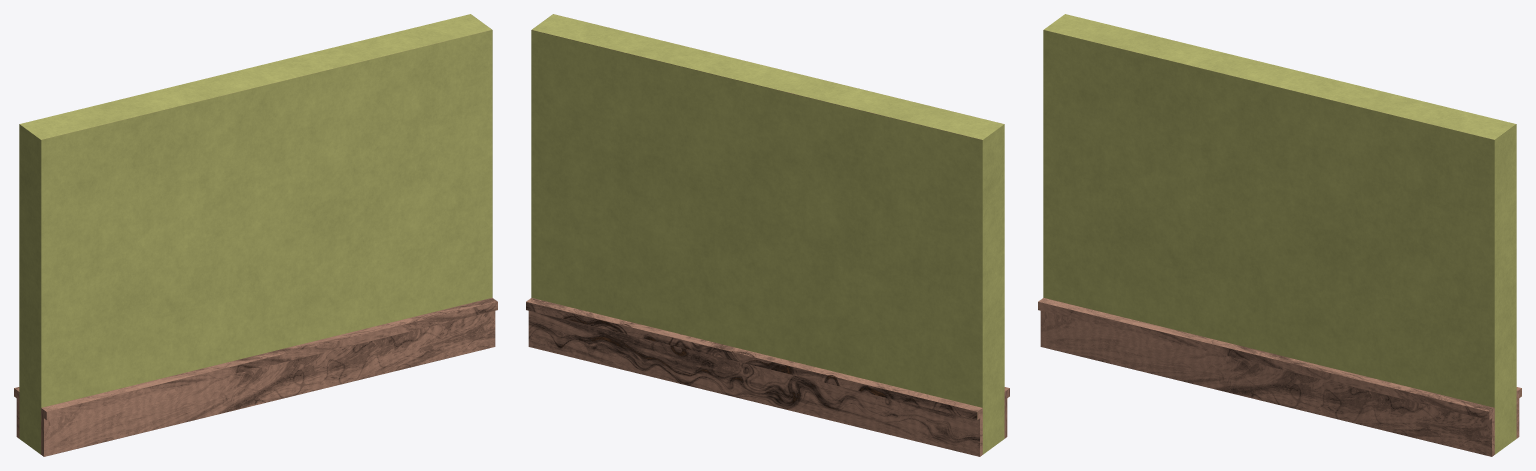
Rendered from WallExtensionMedium.fbx.
3 renders of one model, left to right at view 1: azimuth 30°, elevation 25°; view 2: azimuth 150°, elevation 25°; view 3: azimuth 330°, elevation 25°, orthographic.
Parts seen in each view (by area): view 1: WallExtensionMedium_Baked; view 2: WallExtensionMedium_Baked; view 3: WallExtensionMedium_Baked.
Boxes of the visible parts, left/top/right/bottom form: WallExtensionMedium_Baked: left=14, top=14, right=497, bottom=456; WallExtensionMedium_Baked: left=526, top=14, right=1009, bottom=456; WallExtensionMedium_Baked: left=1038, top=14, right=1521, bottom=456.
Bounding box in the file's own units: 300 × 200 × 37.37.
1 material, 1 textured.
